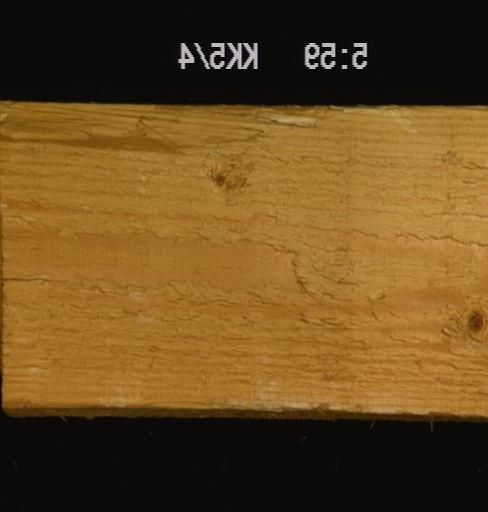small_knot: (196, 149, 255, 196)
sound_knot: (437, 295, 486, 354)
split: (0, 270, 72, 292)
wave: (0, 101, 337, 155)
